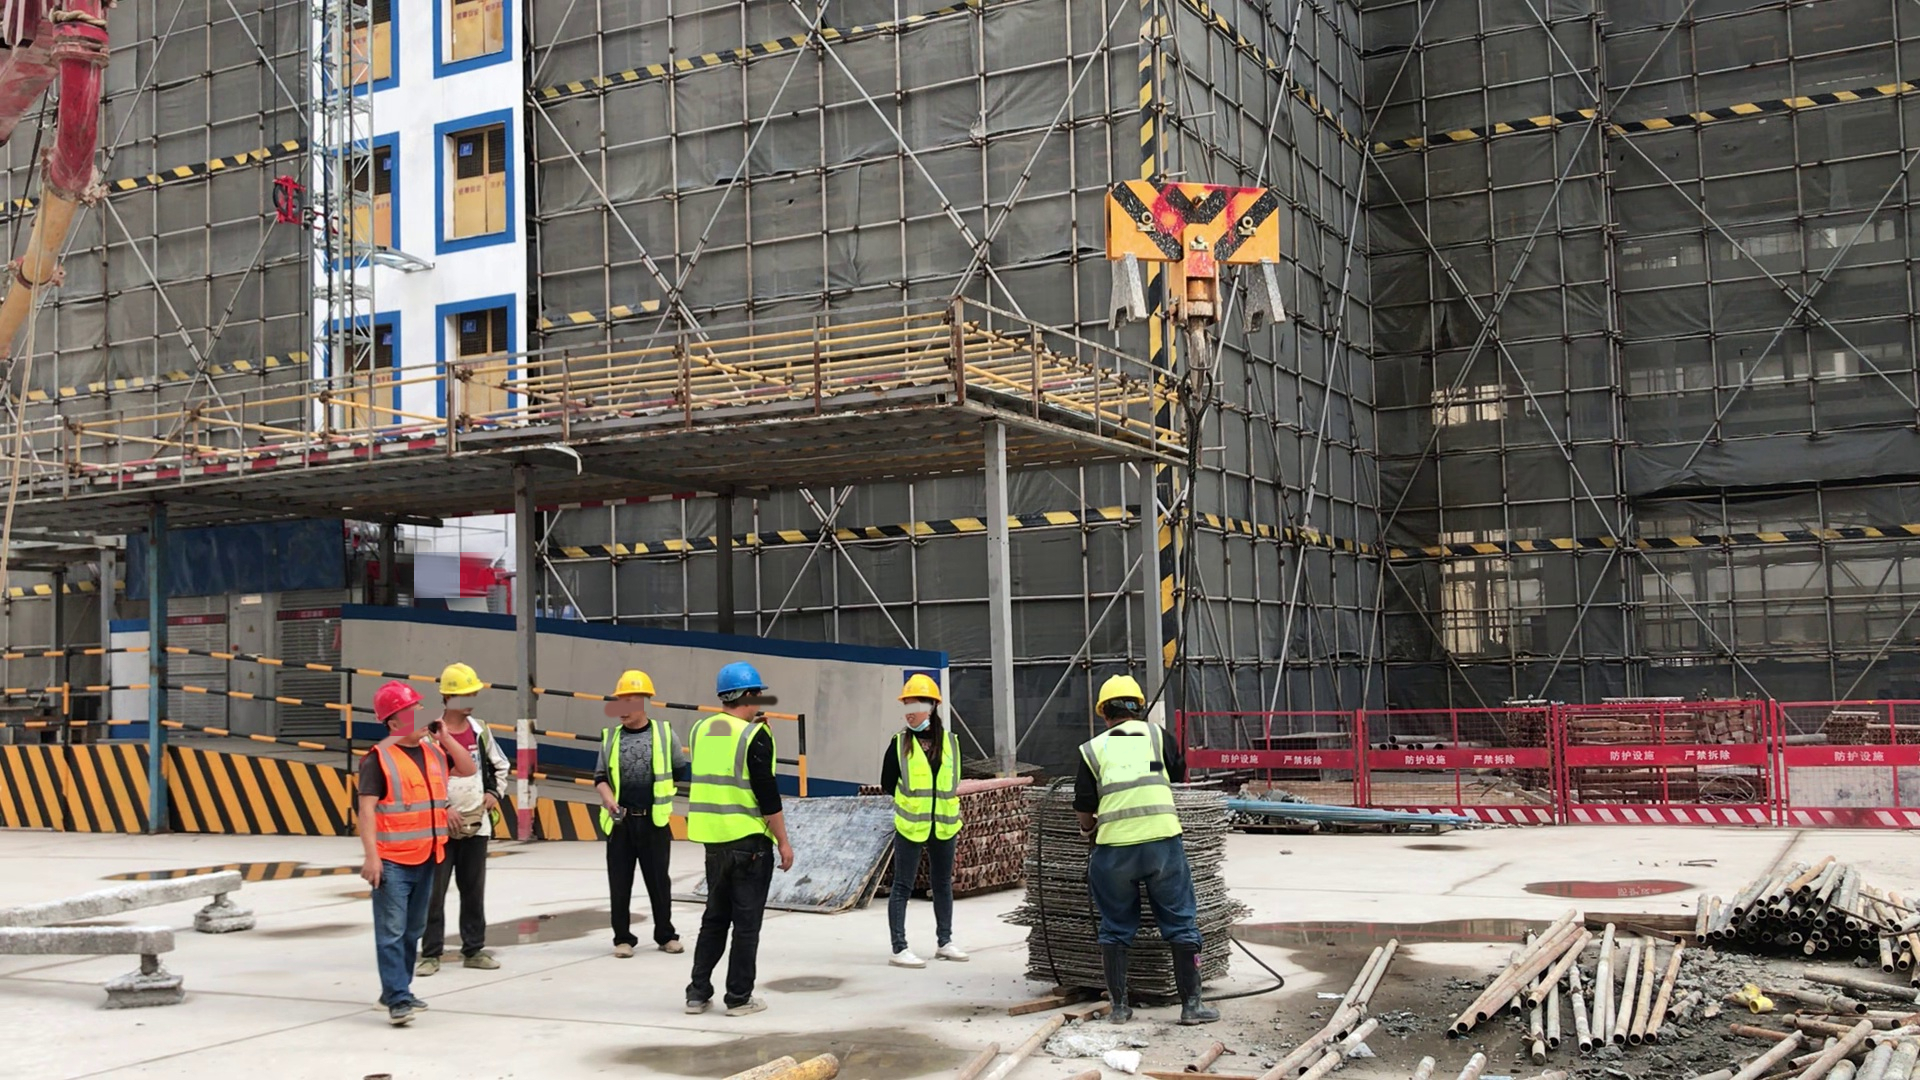fence: (1182, 707, 1920, 826)
helmet: (373, 682, 426, 719), (1096, 674, 1146, 708), (438, 665, 484, 698), (717, 664, 768, 694), (612, 672, 655, 699), (900, 676, 942, 703)
hook: (1104, 181, 1289, 396)
person: (1073, 672, 1225, 1026), (693, 665, 786, 1012), (363, 681, 438, 1027), (883, 676, 970, 965), (427, 666, 508, 977), (601, 674, 683, 954)
scaffold: (962, 773, 1023, 896)
vest: (1083, 722, 1174, 848), (686, 722, 774, 849), (367, 745, 448, 861), (605, 721, 670, 833), (897, 738, 961, 842)
